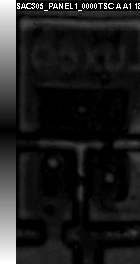led: (38, 88, 127, 198)
